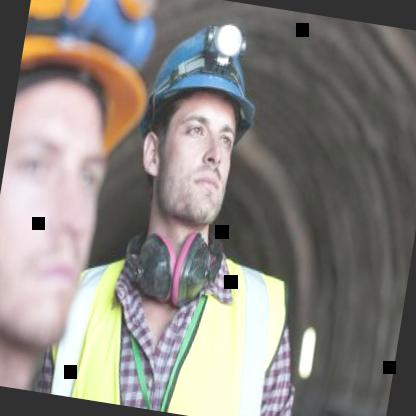helmet: (0, 0, 160, 366), (128, 26, 272, 252)
